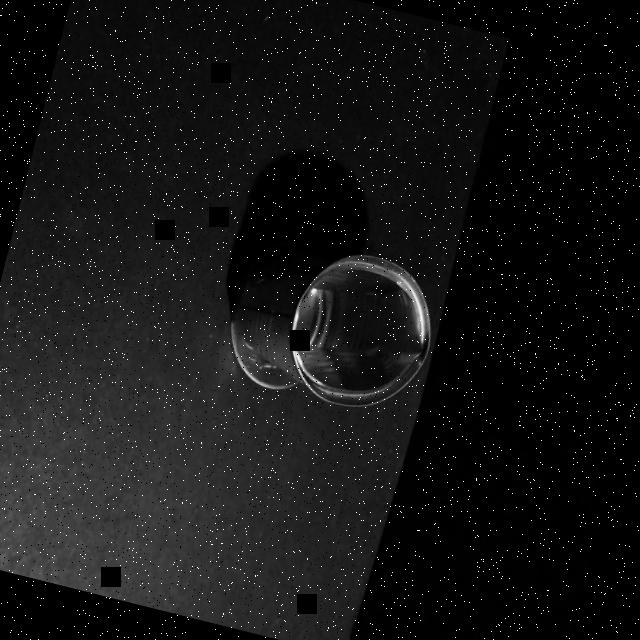can: (212, 221, 455, 428)
